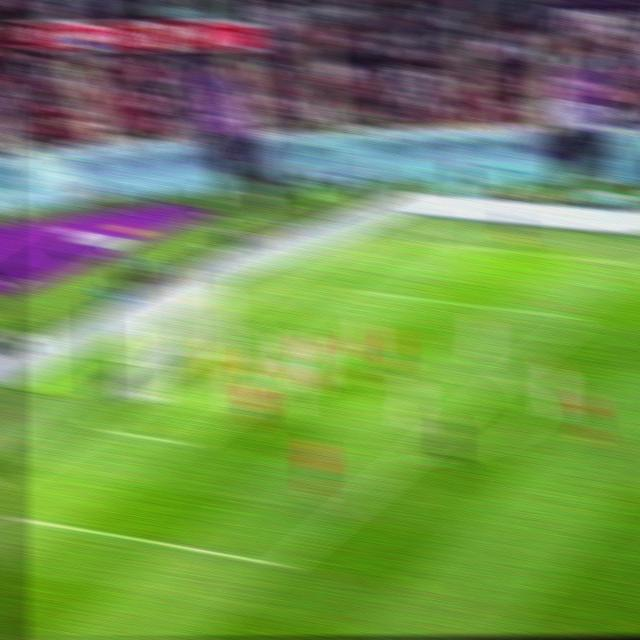bigarea_bottom_inner: (264, 549, 300, 581)
bigarea_top_inner: (566, 306, 595, 329)
bigarea_top_outter: (329, 277, 358, 299)
bottom_arc_area_intersection: (388, 448, 419, 473)
corner: (409, 234, 439, 252)
smallarea_bottom_inner: (174, 428, 206, 459)
smallarea_bottom_outter: (84, 416, 116, 442)
smallarea_top_inner: (329, 331, 359, 357)
smallarea_top_outter: (251, 321, 282, 343)
top_arc_area_intersection: (492, 365, 522, 385)
